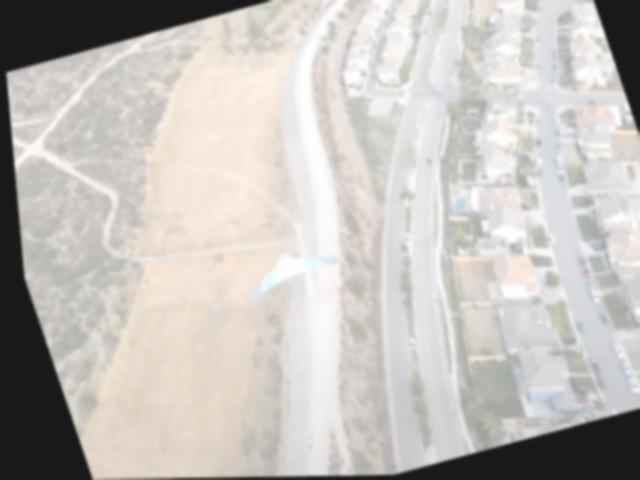iha: (235, 240, 339, 301)
